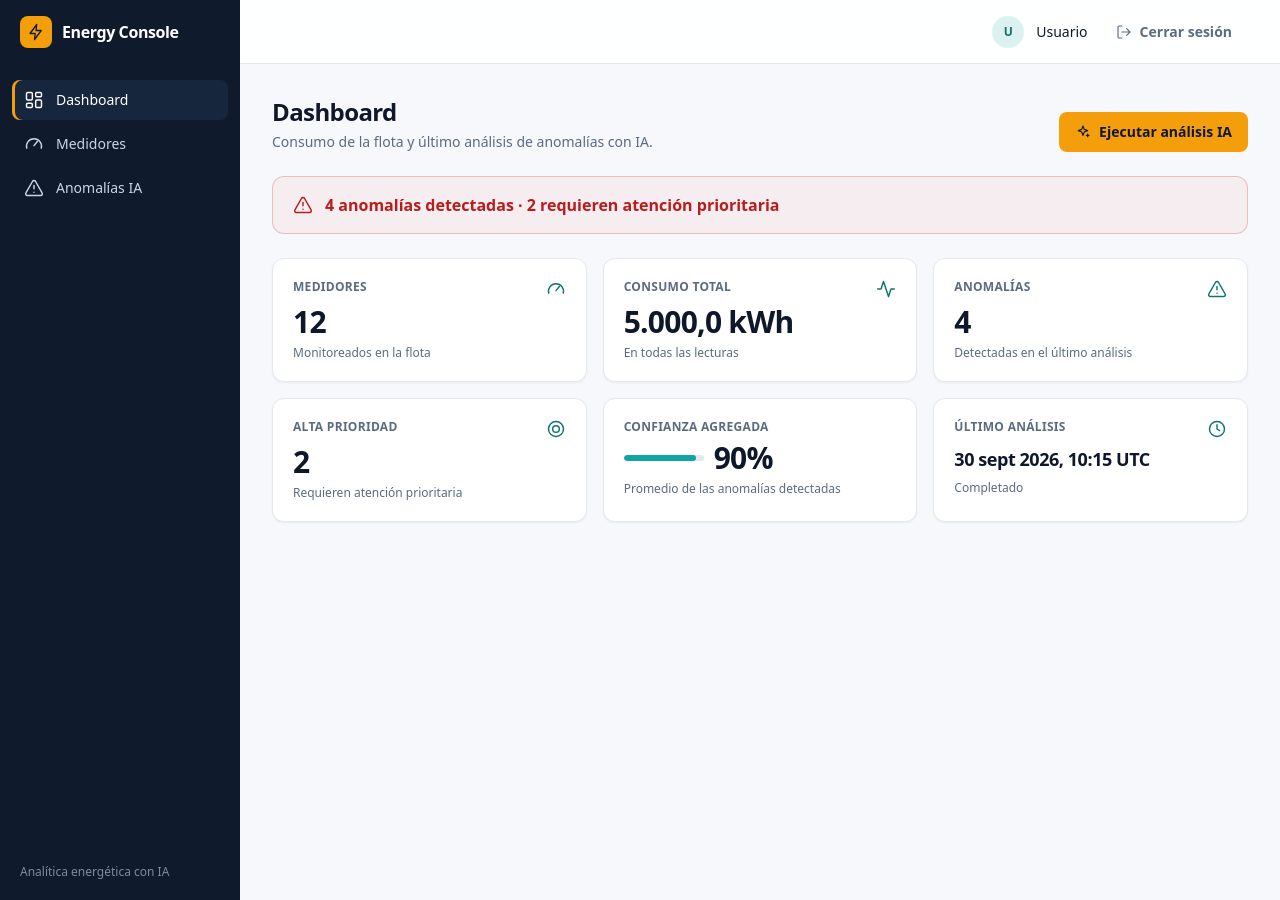
Test case: anomalies routes › opens the anomalies list from the sidebar and marks it as current
Expected: the text "4 anomalías detectadas · 2 requieren atención prioritaria" is shown, [272, 176, 1248, 234]
Click the link "Anomalías IA" at (83, 188), box [24, 178, 142, 198]
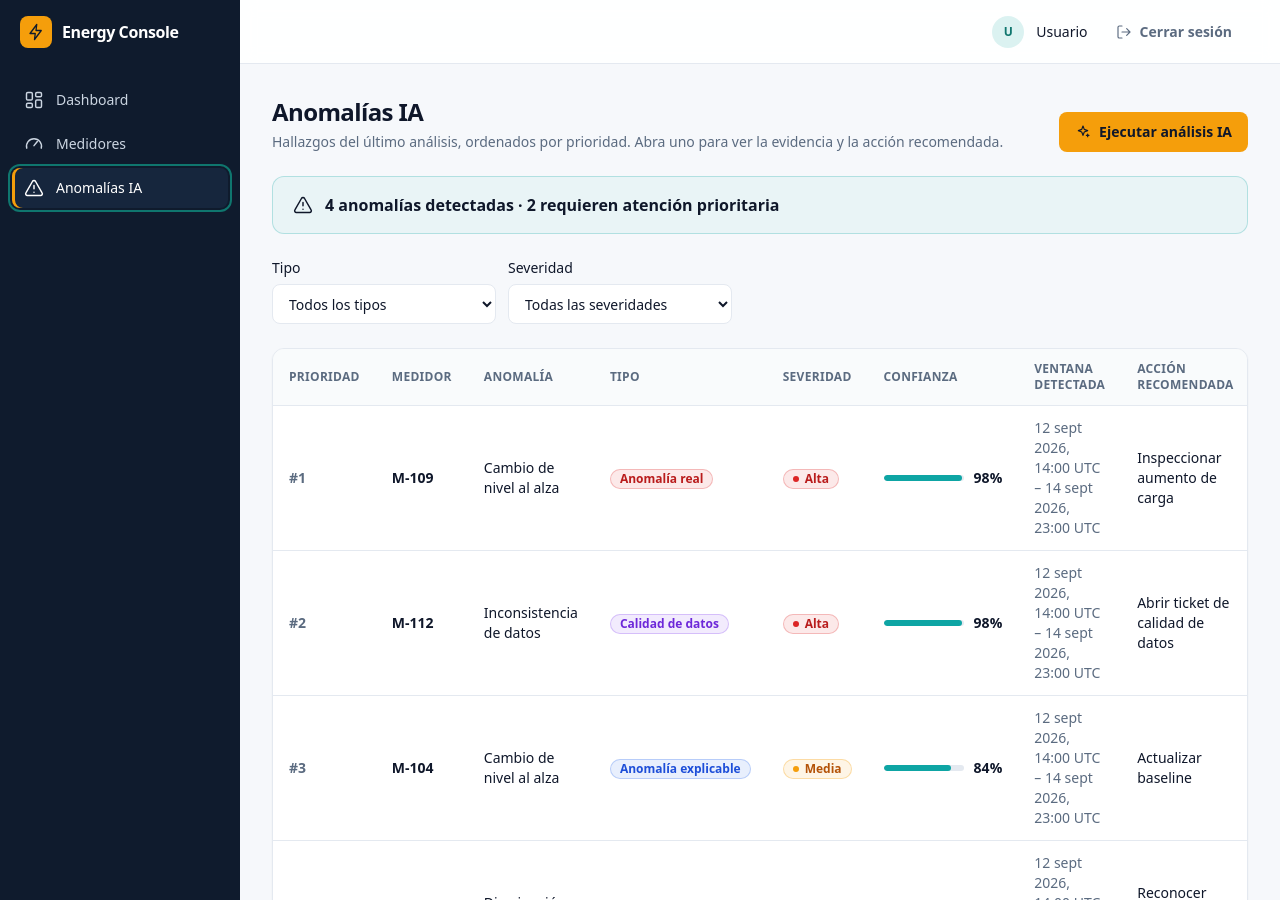
Expected: the heading "Anomalías IA" is shown, [272, 95, 423, 128]
